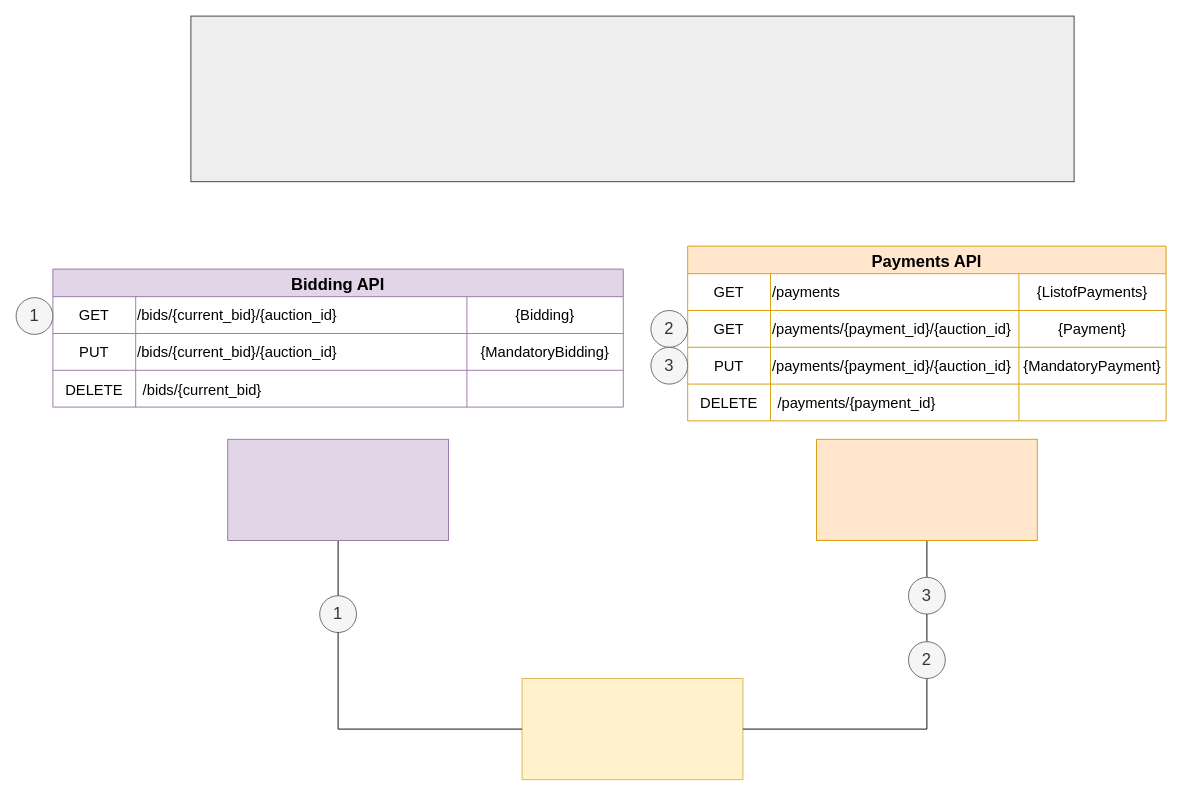
The diagram is 1182 pixels wide and 796 high, and some of its shapes have lost their labels. The centre of each missing label's shape, as x and y in pixels:
Bidding: point 337,489
Payments: point 926,489
User_ID: point 632,729
Workflow for the payment of an auction winning bid: point 632,98
